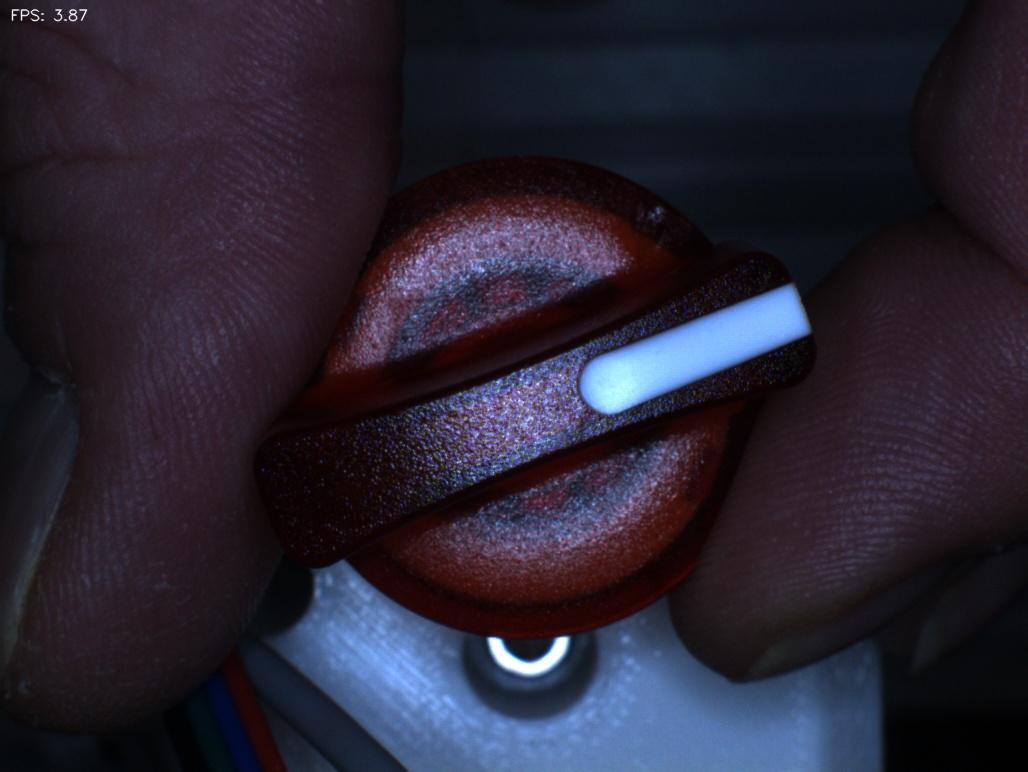Choc: (614, 173, 692, 248)
